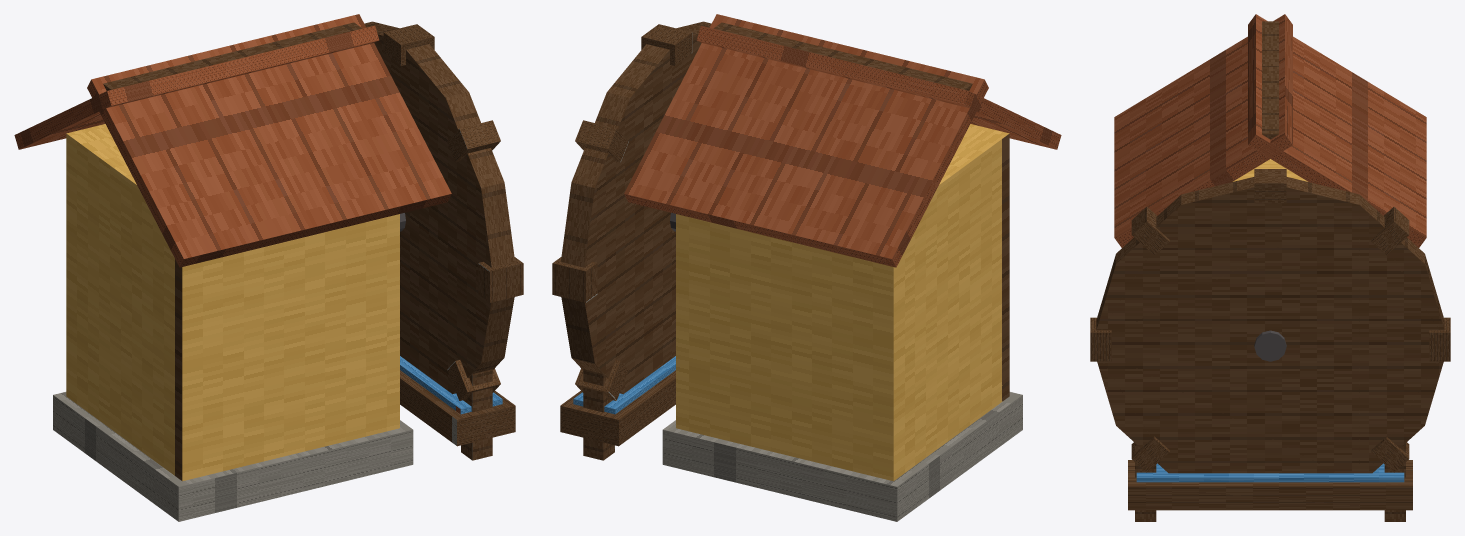
The model's file is waterwheel.glb.
3 views of the same model, side by side, from view 1: azimuth 30°, elevation 25°; view 2: azimuth 150°, elevation 25°; view 3: azimuth 270°, elevation 25° (orthographic). The views are drawn at different scales.
Parts seen in each view (by area): view 1: Wand.012, Dach-.012, Rad, Sockel.014, Dach+.012, Rinne, First.012, Schaufel6, Schaufel7, BockV, Schaufel0, RinnWasser (+1 smaller); view 2: Wand.012, Dach+.012, Rad, Sockel.014, Dach-.012, Rinne, First.012, Schaufel2, Schaufel1, BockH, Schaufel0, RinnWasser (+1 smaller); view 3: Rad, Dach+.012, Dach-.012, Rinne, RinnWasser, First.012, Schaufel0, Schaufel1, Schaufel7, Achse, Schaufel2, Schaufel6 (+4 smaller).
Boxes of the visible parts, <box> form: Wand.012: <box>66,124,399,481</box>; Dach-.012: <box>87,14,451,267</box>; Rad: <box>364,21,514,394</box>; Sockel.014: <box>53,392,413,521</box>; Dach+.012: <box>14,25,379,149</box>; Rinne: <box>400,370,515,446</box>; First.012: <box>103,22,362,90</box>; Schaufel6: <box>478,257,523,302</box>; Schaufel7: <box>447,120,500,162</box>; BockV: <box>461,369,492,460</box>; Schaufel0: <box>383,24,434,65</box>; RinnWasser: <box>400,356,502,414</box>; Wand.012: <box>676,124,1009,481</box>; Dach+.012: <box>624,14,988,267</box>; Rad: <box>561,21,711,394</box>; Sockel.014: <box>662,392,1022,521</box>; Dach-.012: <box>696,25,1061,149</box>; Rinne: <box>560,370,675,446</box>; First.012: <box>713,22,972,90</box>; Schaufel2: <box>552,257,597,302</box>; Schaufel1: <box>575,120,628,162</box>; BockH: <box>583,369,614,460</box>; Schaufel0: <box>641,24,692,65</box>; RinnWasser: <box>573,356,675,414</box>; Rad: <box>1096,177,1444,473</box>; Dach+.012: <box>1248,14,1426,247</box>; Dach-.012: <box>1114,14,1292,247</box>; Rinne: <box>1128,460,1412,510</box>; RinnWasser: <box>1136,463,1404,482</box>; First.012: <box>1262,21,1278,139</box>; Schaufel0: <box>1254,169,1286,203</box>; Schaufel1: <box>1371,207,1409,255</box>; Schaufel7: <box>1131,207,1169,255</box>; Achse: <box>1254,330,1286,361</box>; Schaufel2: <box>1429,317,1450,361</box>; Schaufel6: <box>1090,317,1111,361</box>.
Bounding box in the file's own units: 2.02 × 2.25 × 2.02.
7 materials, 6 textured.
